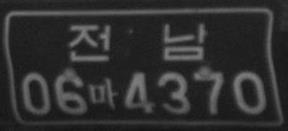0: (231, 69, 268, 115), (20, 71, 52, 116)
3: (156, 70, 191, 115)
4: (122, 71, 156, 114)
6: (54, 71, 88, 116)
7: (192, 71, 225, 115)
마: (89, 76, 119, 112)
전남_D: (67, 22, 208, 62)
